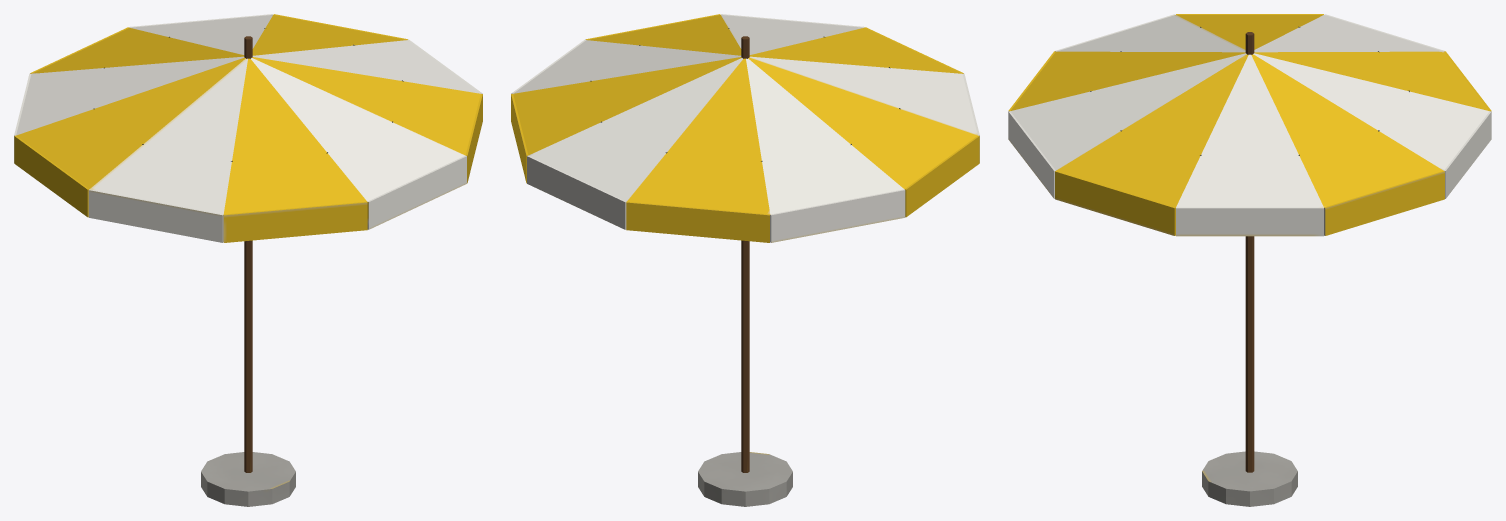
The model's file is slunecnik_ef49e3ef.glb.
The picture shows the model from 3 angles, left to right: view 1: azimuth 30°, elevation 25°; view 2: azimuth 150°, elevation 25°; view 3: azimuth 270°, elevation 25°; orthographic projection.
Parts seen in each view (by area): view 1: dum; view 2: dum; view 3: dum.
Part boxes in pixels (<box>): dum: <box>14,14,482,506</box>; dum: <box>511,14,979,506</box>; dum: <box>1008,14,1491,506</box>.
Bounding box in the file's own units: 2.68 × 2.91 × 2.82.
1 material, 1 textured.
